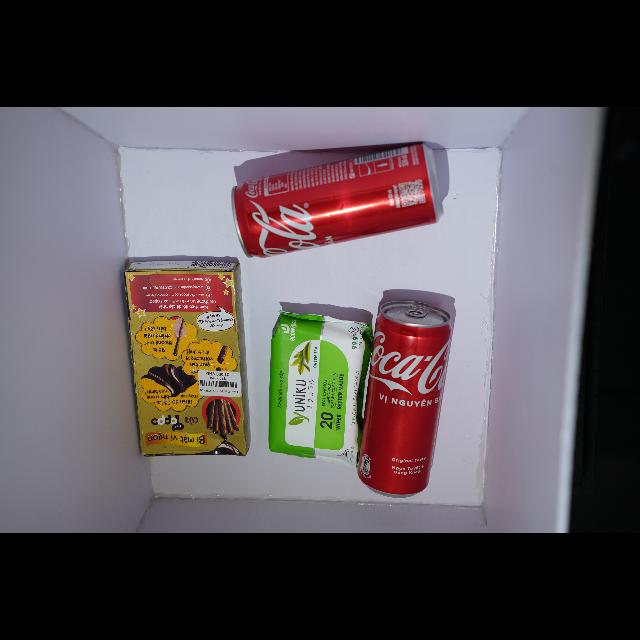banh_toppo_socola: (124, 261, 247, 456)
coca_cola: (232, 143, 442, 257), (357, 300, 453, 497)
khan_giay: (269, 311, 372, 468)
